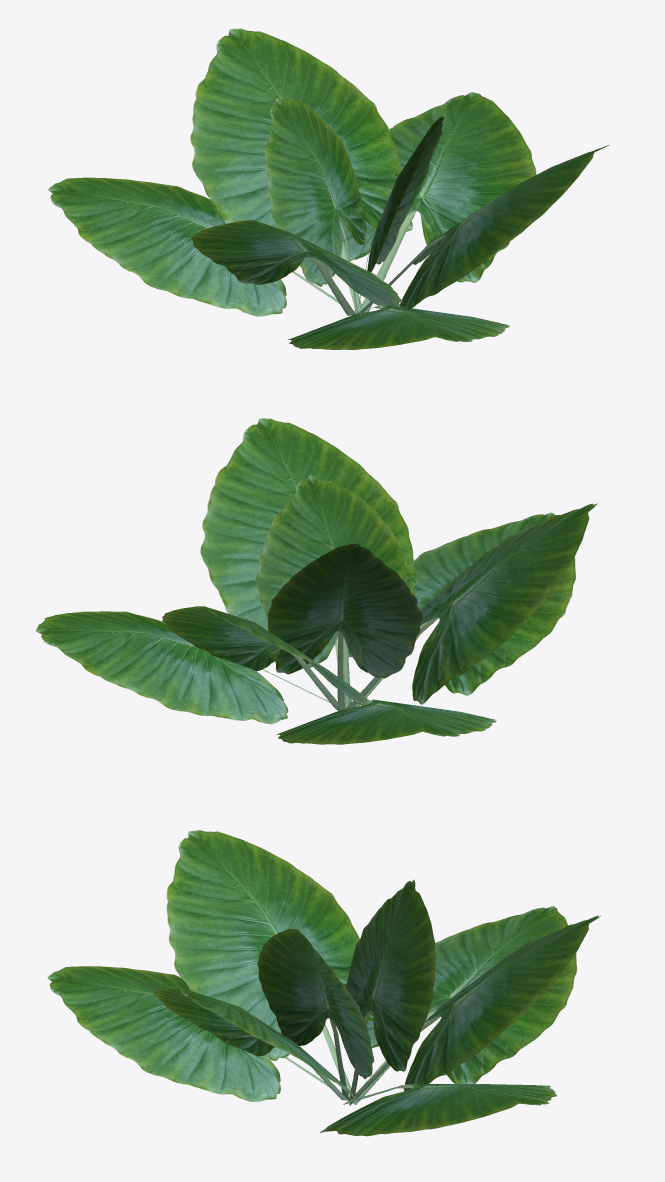
File: Plant_01.FBX
The picture shows the model from 3 angles, top to bottom: view 1: azimuth 30°, elevation 25°; view 2: azimuth 150°, elevation 25°; view 3: azimuth 270°, elevation 25°; orthographic projection. The views are drawn at different scales.
Parts seen in each view (by area): view 1: Plant_01; view 2: Plant_01; view 3: Plant_01.
Part boxes in pixels (bbox=[...]): Plant_01: bbox=[48, 28, 608, 349]; Plant_01: bbox=[35, 418, 597, 744]; Plant_01: bbox=[47, 830, 600, 1136].
Bounding box in the file's own units: 4.29 × 1.7 × 4.38.
1 material, 1 textured.
